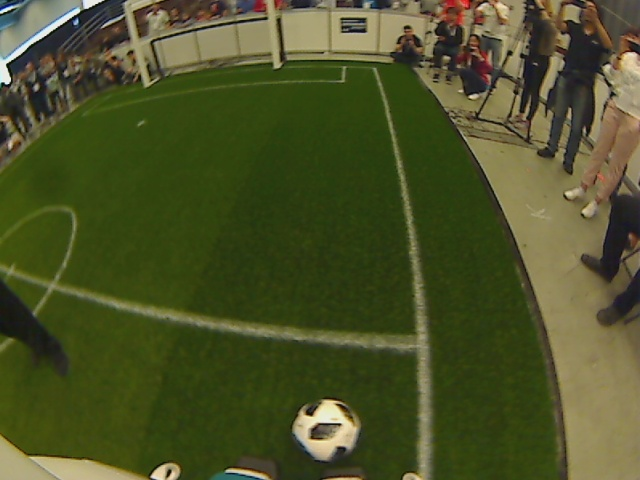ball: (291, 394, 361, 462)
